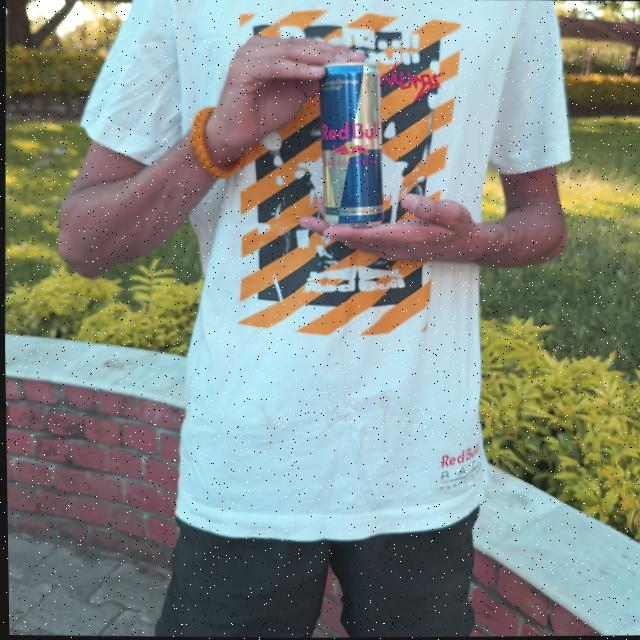Redbul: (309, 58, 390, 226)
